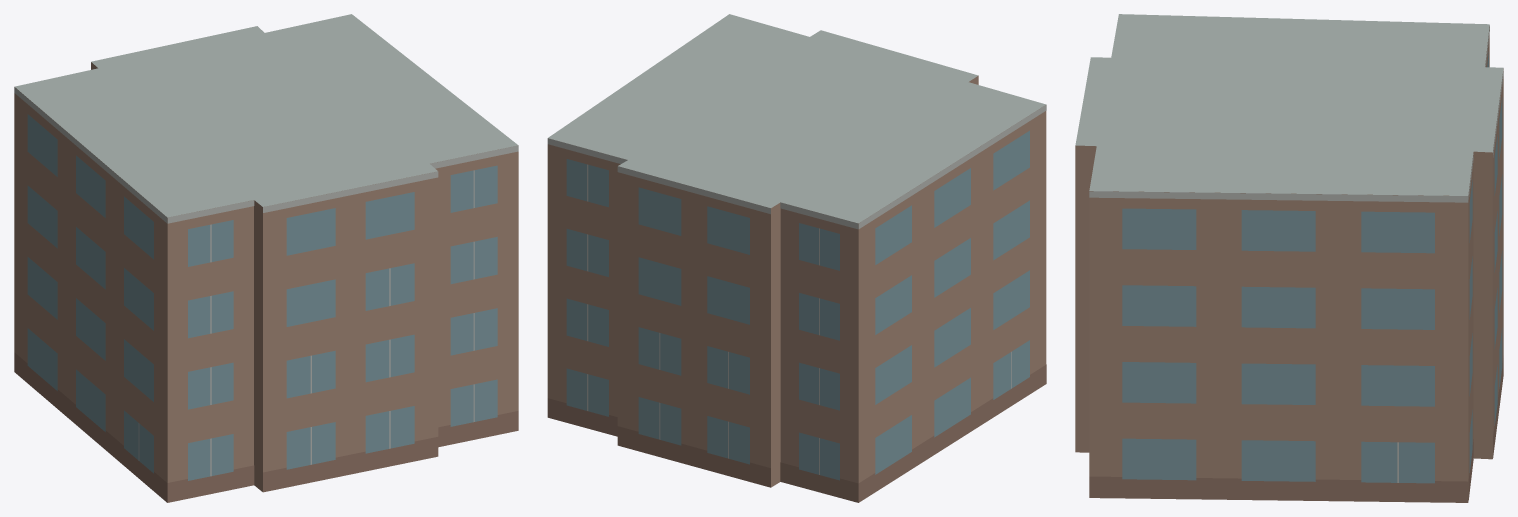
The model's file is survey-upis-32768816.glb.
3 views of the same model, side by side, from view 1: azimuth 30°, elevation 25°; view 2: azimuth 150°, elevation 25°; view 3: azimuth 270°, elevation 25° (orthographic). The views are drawn at different scales.
Parts seen in each view (by area): view 1: survey-upis-32768816.tmp; view 2: survey-upis-32768816.tmp; view 3: survey-upis-32768816.tmp.
Boxes of the visible parts, box(x1,y1,x2,y2) form: survey-upis-32768816.tmp: box(14, 14, 518, 502); survey-upis-32768816.tmp: box(547, 14, 1046, 502); survey-upis-32768816.tmp: box(1075, 14, 1503, 502).
Bounding box in the file's own units: 14.39 × 11.3 × 14.3.
